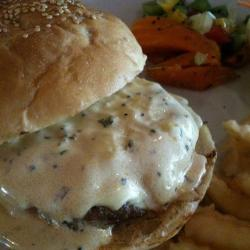burger: (3, 2, 217, 248)
fries: (177, 118, 250, 245)
